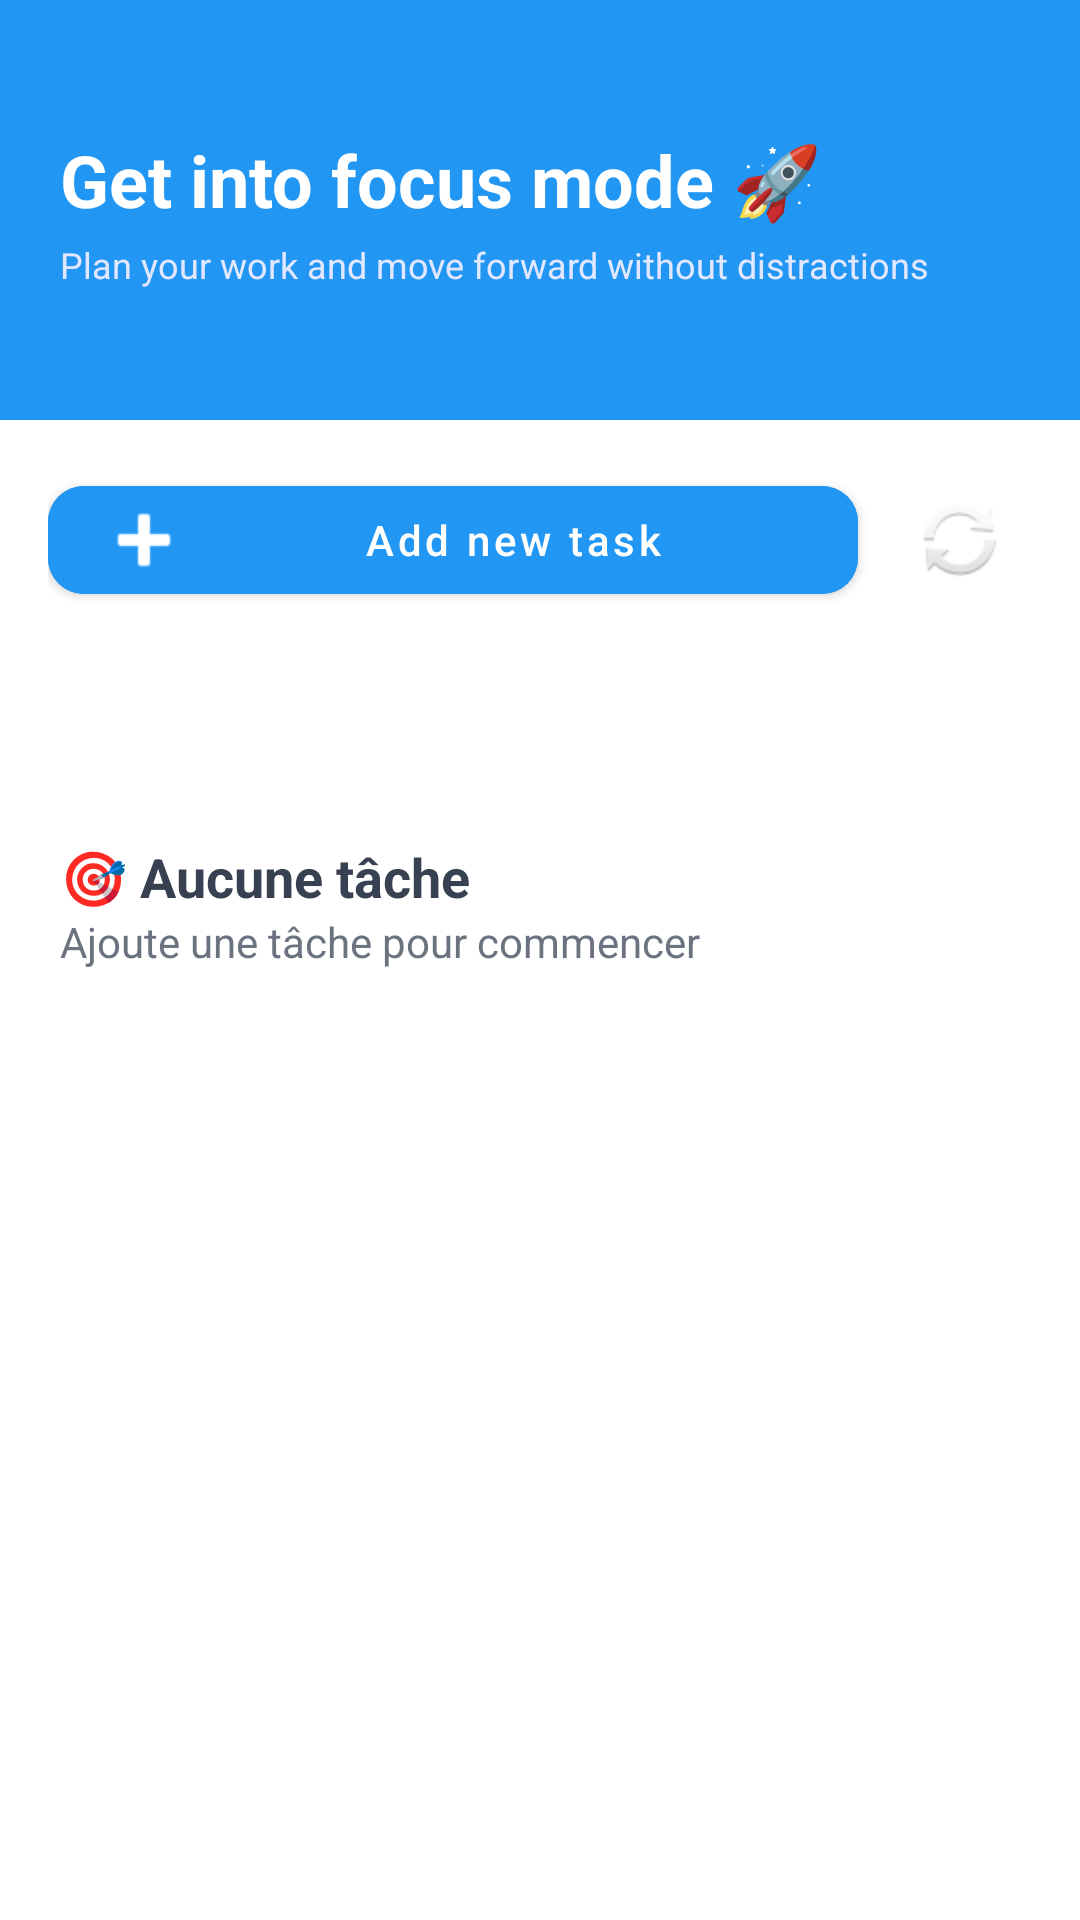

Icon click points for this 1080w x 1920h phone screenshot, format (x,y):
refresh button: (959,544)
